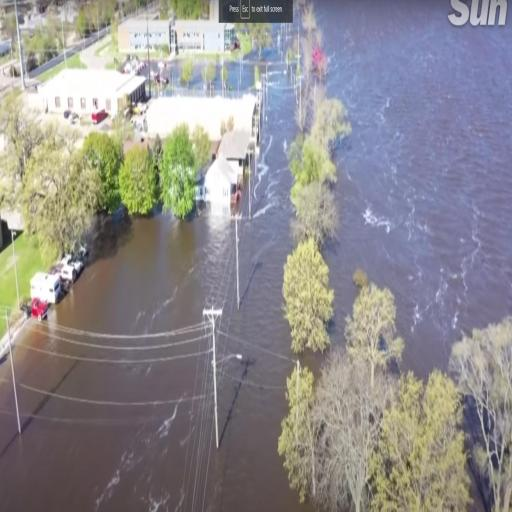flood: (0, 48, 300, 510), (315, 0, 512, 377), (225, 60, 254, 96), (188, 59, 210, 96), (272, 21, 295, 47), (170, 59, 186, 94), (211, 61, 222, 96)
house: (38, 65, 147, 126), (118, 12, 236, 60), (204, 158, 240, 224), (219, 124, 254, 168)
